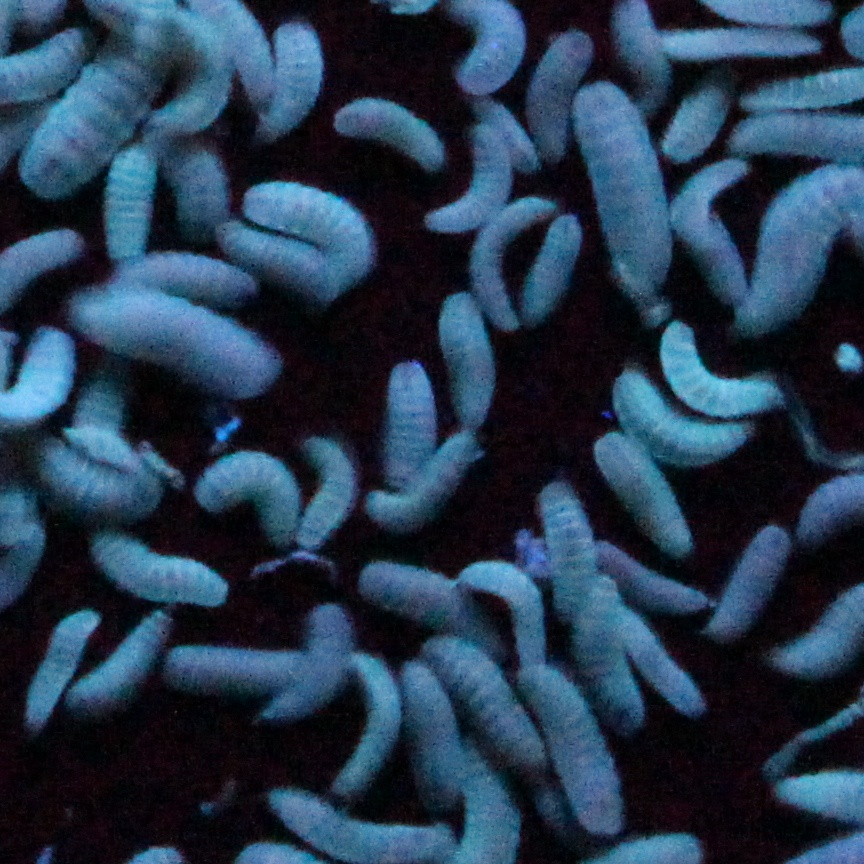larve: (66, 290, 287, 403), (571, 88, 669, 296), (519, 671, 630, 833), (90, 524, 233, 619), (231, 184, 380, 271), (657, 322, 793, 417), (595, 433, 692, 562), (612, 377, 753, 462), (68, 607, 175, 714), (611, 603, 712, 710), (355, 560, 478, 642), (195, 445, 295, 545), (212, 215, 335, 296), (257, 605, 350, 712), (19, 612, 107, 724), (437, 291, 506, 431), (399, 658, 466, 802), (709, 529, 788, 643), (421, 127, 507, 231), (256, 21, 323, 146), (472, 558, 551, 664), (526, 29, 591, 154), (539, 478, 597, 616), (337, 103, 445, 174), (666, 70, 736, 165), (387, 348, 430, 490), (303, 435, 347, 546), (667, 28, 821, 58)
